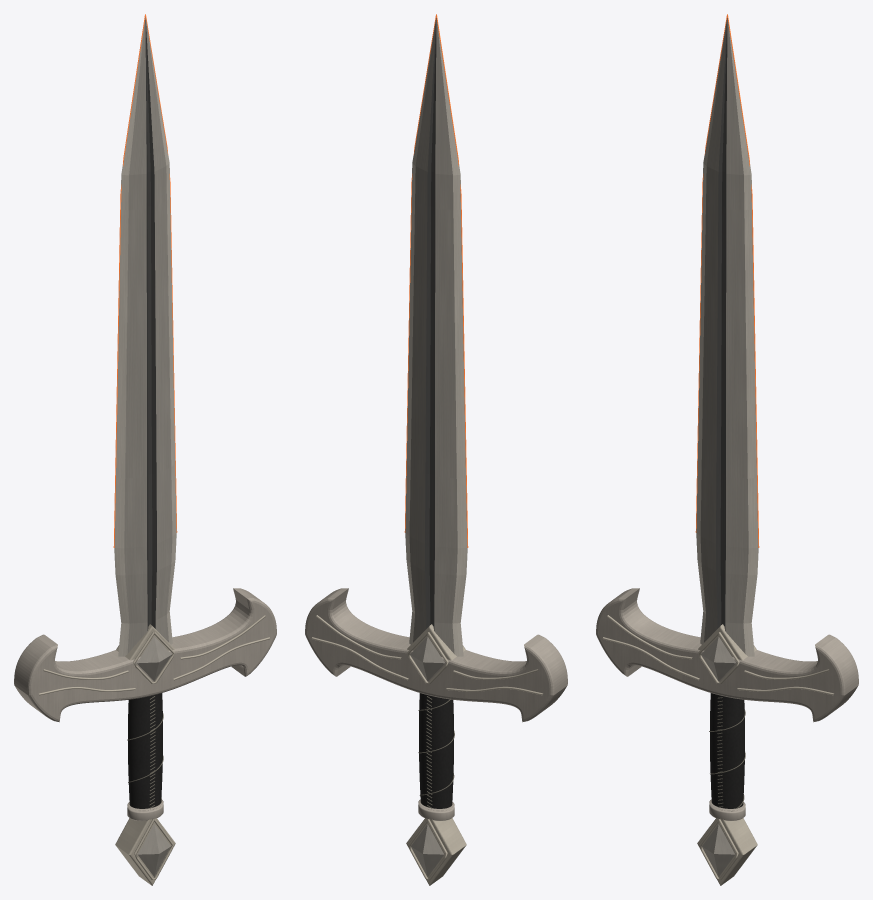
The model's file is emberite_sword.glb.
3 views of the same model, side by side, from view 1: azimuth 30°, elevation 25°; view 2: azimuth 150°, elevation 25°; view 3: azimuth 330°, elevation 25° (orthographic).
Parts seen in each view (by area): view 1: titanium-blade-facets, titanium-guard-and-pommel, titanium-polished-honed-bevels, titanium-recessed-metal, titanium-leather, titanium-raised-metal-ornament, titanium-dull-orange-tempered-edge; view 2: titanium-blade-facets, titanium-guard-and-pommel, titanium-polished-honed-bevels, titanium-recessed-metal, titanium-leather, titanium-raised-metal-ornament, titanium-dull-orange-tempered-edge; view 3: titanium-blade-facets, titanium-guard-and-pommel, titanium-polished-honed-bevels, titanium-recessed-metal, titanium-leather, titanium-raised-metal-ornament, titanium-dull-orange-tempered-edge.
Part boxes in pixels (x1=…): titanium-blade-facets: x1=124, y1=17, x2=172, y2=876; titanium-guard-and-pommel: x1=14, y1=588, x2=276, y2=820; titanium-polished-honed-bevels: x1=114, y1=26, x2=176, y2=656; titanium-recessed-metal: x1=145, y1=20, x2=156, y2=630; titanium-leather: x1=128, y1=693, x2=162, y2=808; titanium-raised-metal-ornament: x1=39, y1=615, x2=270, y2=885; titanium-dull-orange-tempered-edge: x1=113, y1=14, x2=177, y2=547; titanium-blade-facets: x1=409, y1=17, x2=457, y2=876; titanium-guard-and-pommel: x1=305, y1=588, x2=567, y2=820; titanium-polished-honed-bevels: x1=405, y1=26, x2=467, y2=656; titanium-recessed-metal: x1=425, y1=20, x2=436, y2=630; titanium-leather: x1=419, y1=693, x2=453, y2=808; titanium-raised-metal-ornament: x1=311, y1=615, x2=542, y2=885; titanium-dull-orange-tempered-edge: x1=404, y1=14, x2=468, y2=547; titanium-blade-facets: x1=700, y1=17, x2=748, y2=876; titanium-guard-and-pommel: x1=596, y1=588, x2=858, y2=820; titanium-polished-honed-bevels: x1=696, y1=26, x2=758, y2=656; titanium-recessed-metal: x1=716, y1=20, x2=727, y2=630; titanium-leather: x1=710, y1=693, x2=744, y2=808; titanium-raised-metal-ornament: x1=602, y1=615, x2=833, y2=885; titanium-dull-orange-tempered-edge: x1=695, y1=14, x2=759, y2=547.
Bounding box in the file's own units: 0.3902 × 1.3 × 0.074.
8 materials, 7 textured.
